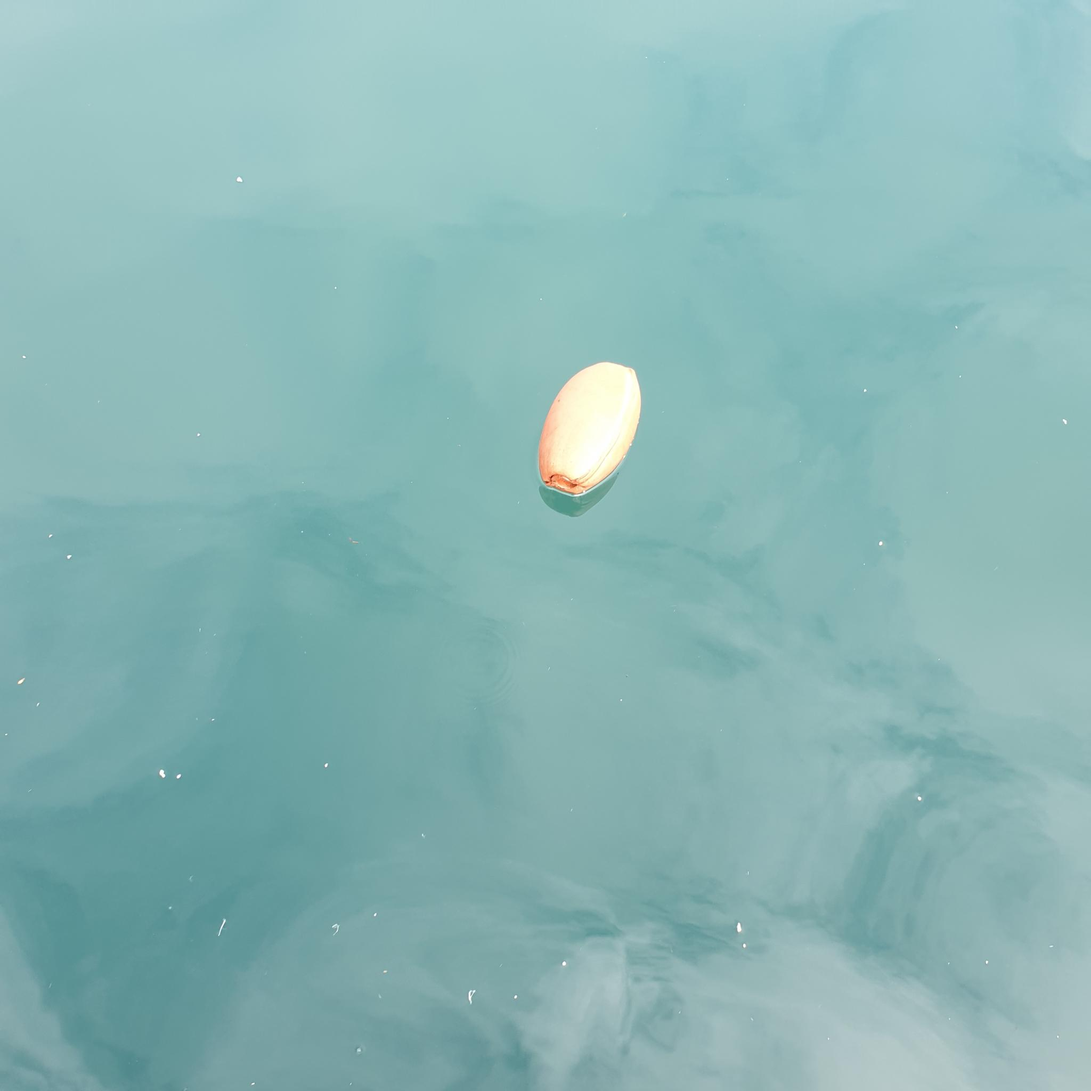sampah_terapung: (539, 362, 642, 494)
